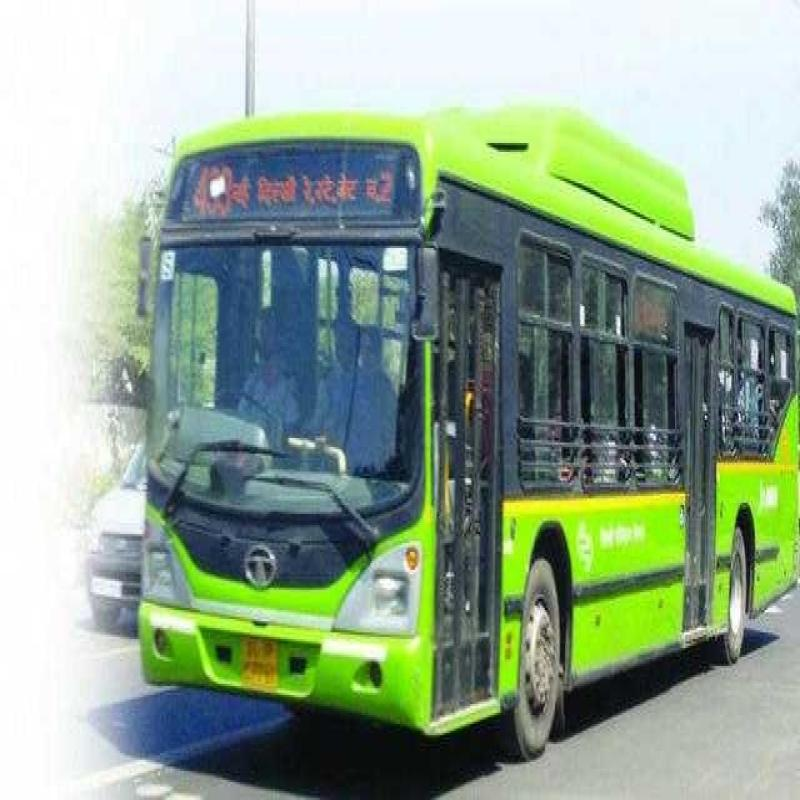bus: (144, 76, 791, 776)
